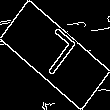L_SW: (29, 26, 81, 84)
